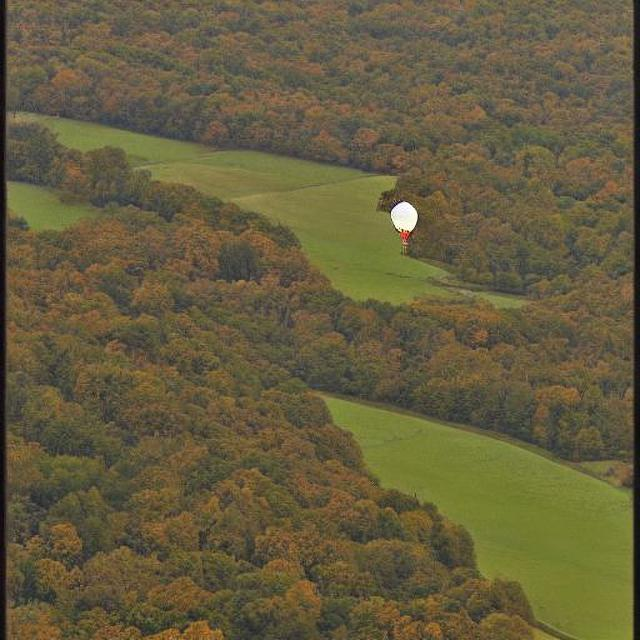balloon: (388, 198, 418, 232)
floating object: (374, 176, 402, 212)
